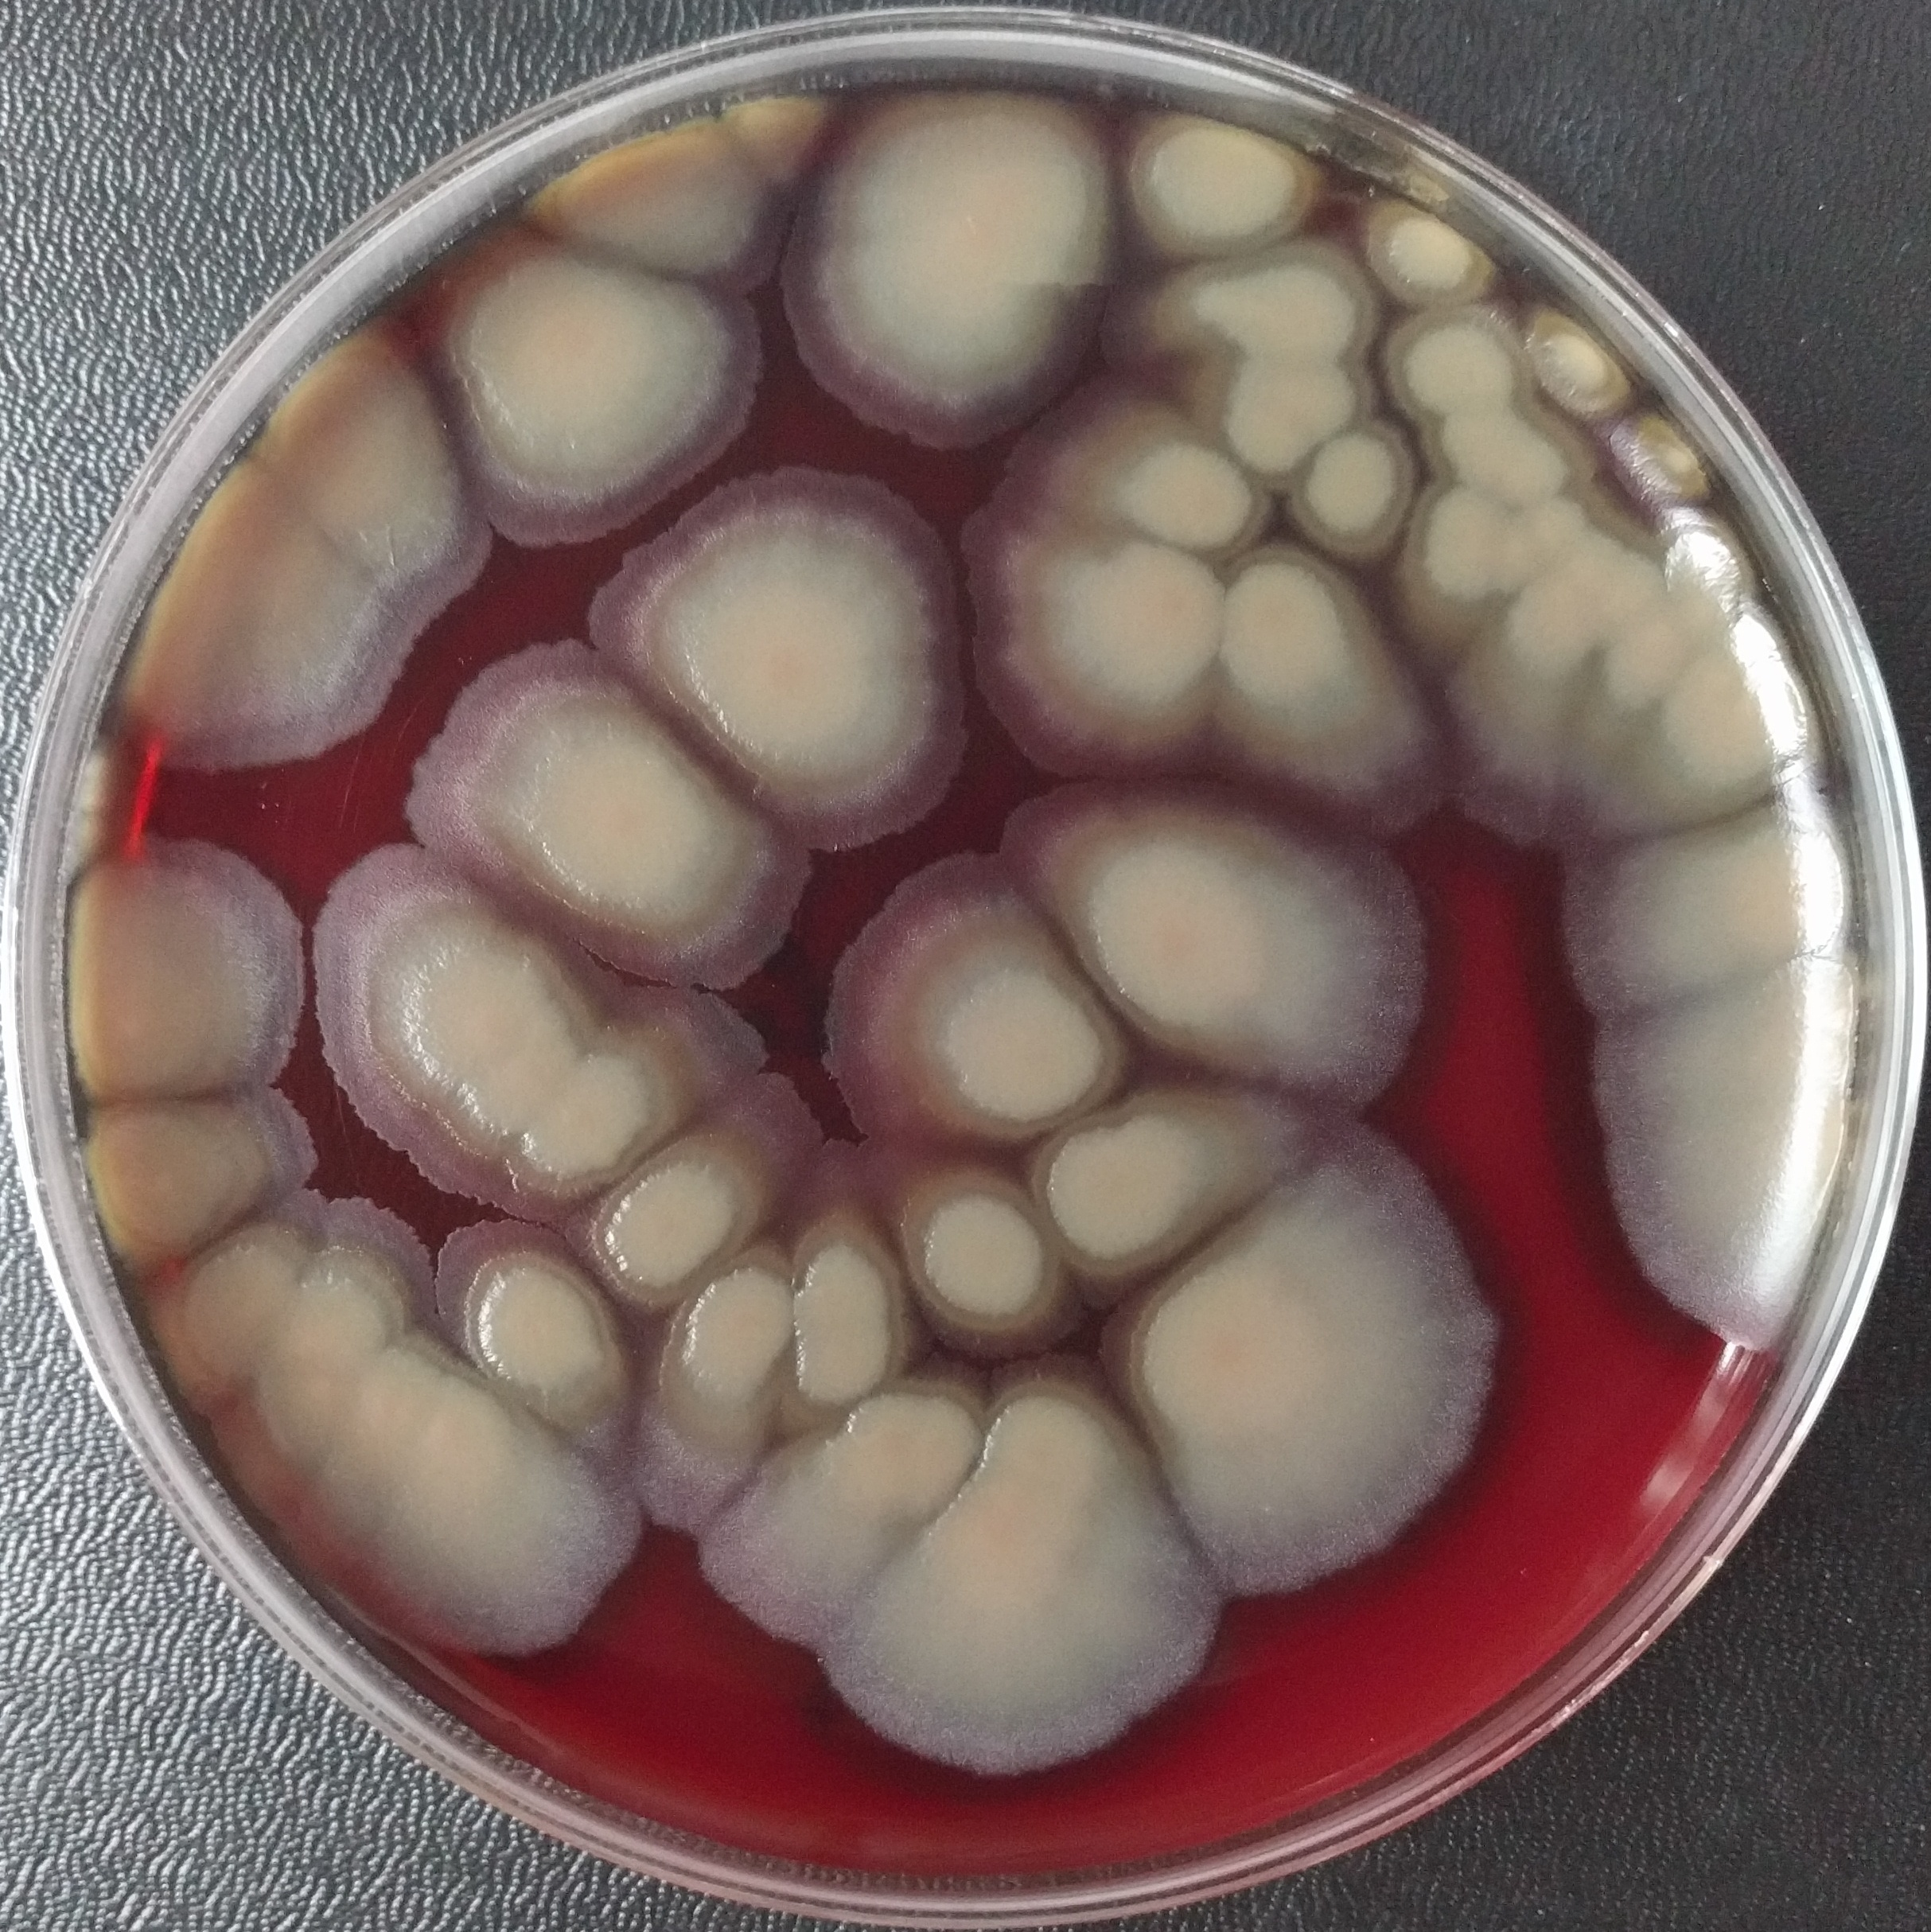sp04: (1073, 1095, 1526, 1637), (813, 1327, 1256, 1808), (578, 435, 996, 885), (396, 593, 826, 1010), (983, 729, 1459, 1090), (771, 65, 1137, 476), (1576, 943, 1880, 1385), (306, 1343, 674, 1707), (400, 214, 780, 563), (90, 419, 405, 778), (216, 265, 520, 637), (1026, 1037, 1390, 1325), (704, 1339, 1003, 1667), (951, 471, 1236, 801), (1549, 750, 1867, 1035), (1183, 515, 1448, 855), (815, 847, 1121, 1139), (48, 800, 320, 1113), (207, 1182, 437, 1550), (317, 821, 578, 1122), (617, 1214, 819, 1582), (65, 1056, 324, 1302), (133, 1182, 366, 1444), (1096, 219, 1392, 418), (440, 1198, 661, 1454), (1109, 81, 1333, 308), (881, 1108, 1063, 1385), (1432, 533, 1597, 837), (771, 1131, 937, 1419), (515, 101, 776, 280), (504, 984, 700, 1214), (1148, 329, 1369, 515), (1328, 180, 1515, 354), (1261, 400, 1429, 566), (1510, 269, 1660, 444), (1591, 396, 1735, 575), (596, 1161, 739, 1329), (1678, 602, 1828, 747), (720, 65, 861, 216), (1637, 524, 1759, 617), (1425, 481, 1501, 630), (1607, 598, 1676, 711), (1413, 324, 1496, 403), (1487, 522, 1540, 609), (1482, 448, 1574, 495), (1597, 536, 1650, 617), (1441, 409, 1501, 464), (1528, 502, 1590, 556)
